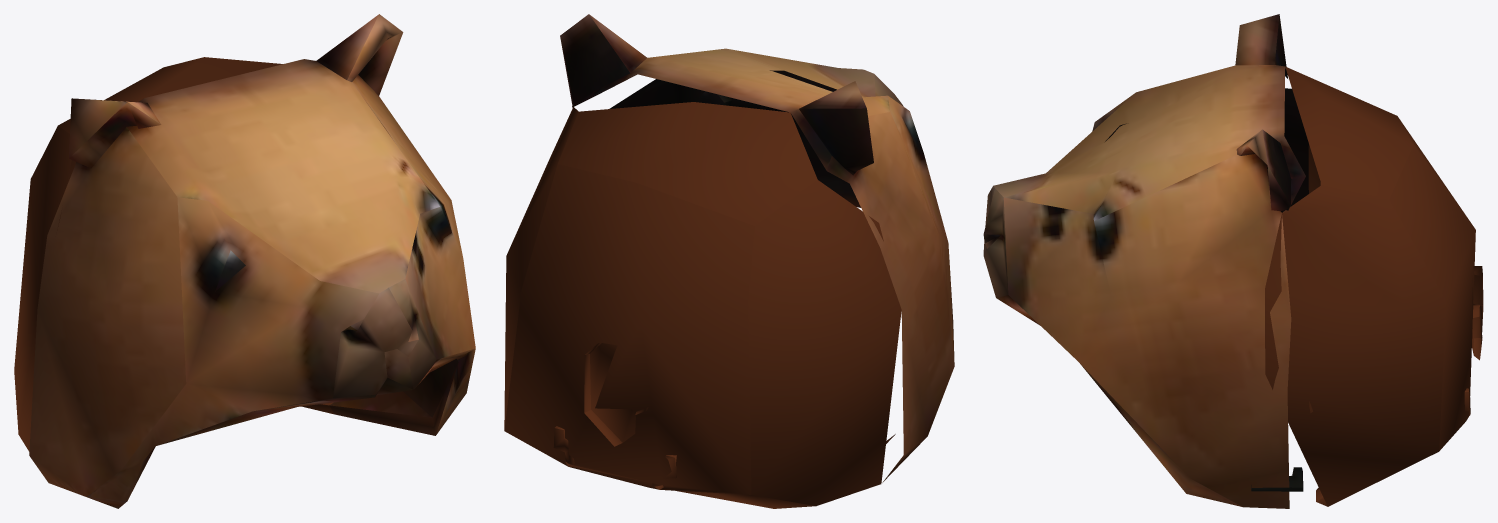
The model's file is capybara.glb.
3 views of the same model, side by side, from view 1: azimuth 30°, elevation 25°; view 2: azimuth 150°, elevation 25°; view 3: azimuth 270°, elevation 25° (orthographic). The views are drawn at different scales.
Parts seen in each view (by area): view 1: geometry_0; view 2: geometry_0; view 3: geometry_0.
Boxes of the visible parts, x1,y1,x2,y2 form: geometry_0: (14,14,475,508); geometry_0: (504,14,954,508); geometry_0: (983,14,1483,508).
Size of the model in its own units: 0.4436 by 0.4514 by 0.5385.
Materials: 2 (1 with a texture image).
